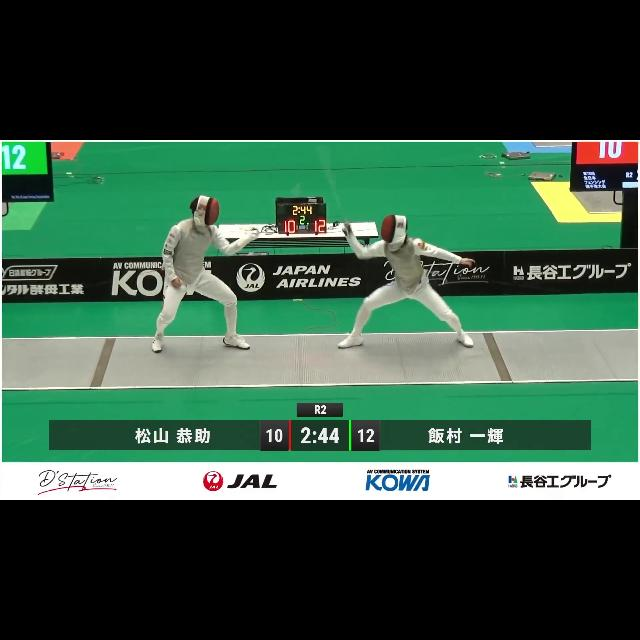blade: (314, 142, 354, 238), (248, 176, 308, 238)
